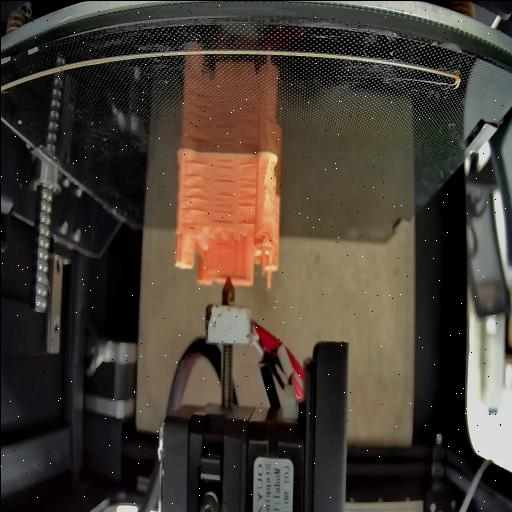cracks: (180, 158, 208, 212), (236, 159, 258, 207), (210, 191, 234, 228), (214, 158, 234, 184), (236, 217, 258, 231), (184, 224, 198, 232)
